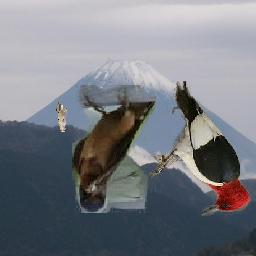Sparrow: (55, 102, 67, 132)
Swallow: (72, 85, 156, 213)
Woodpecker: (149, 82, 251, 217)
